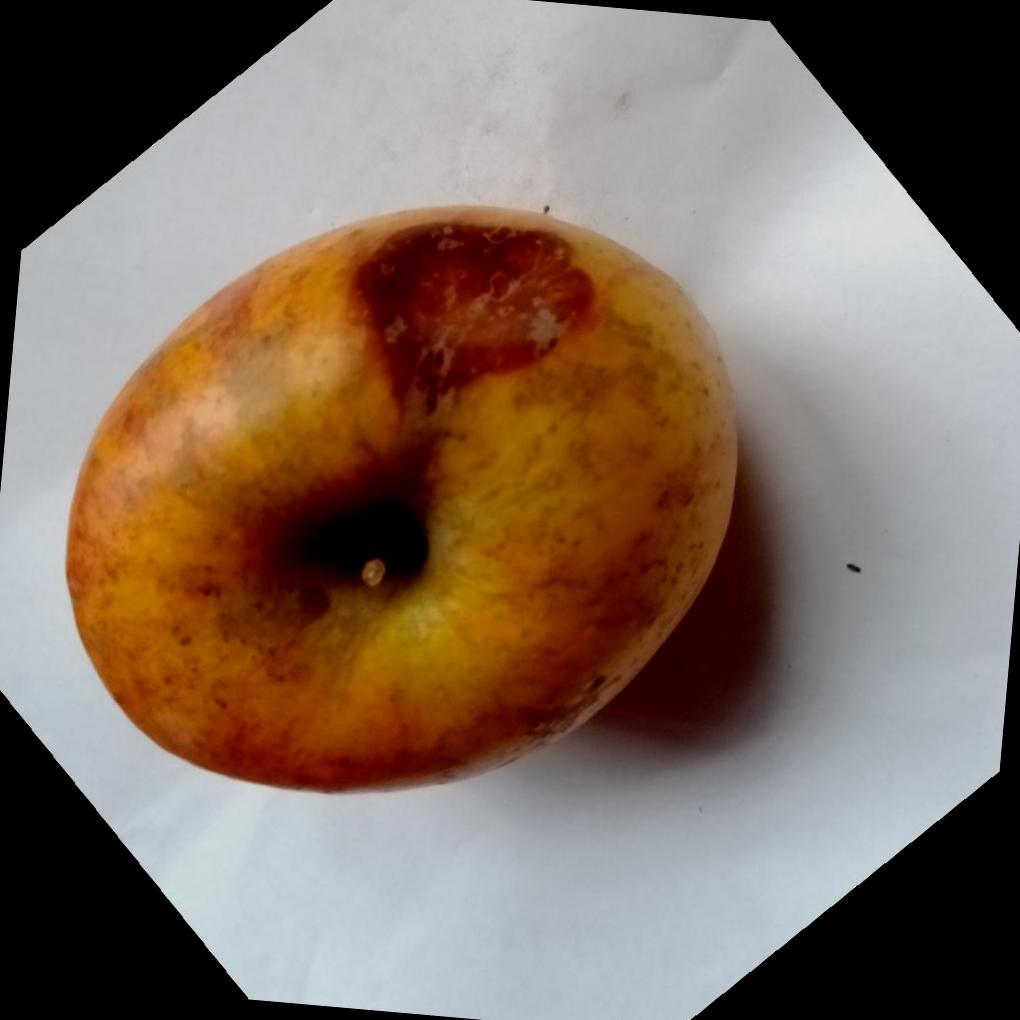FreshOrange: (62, 205, 740, 797)
